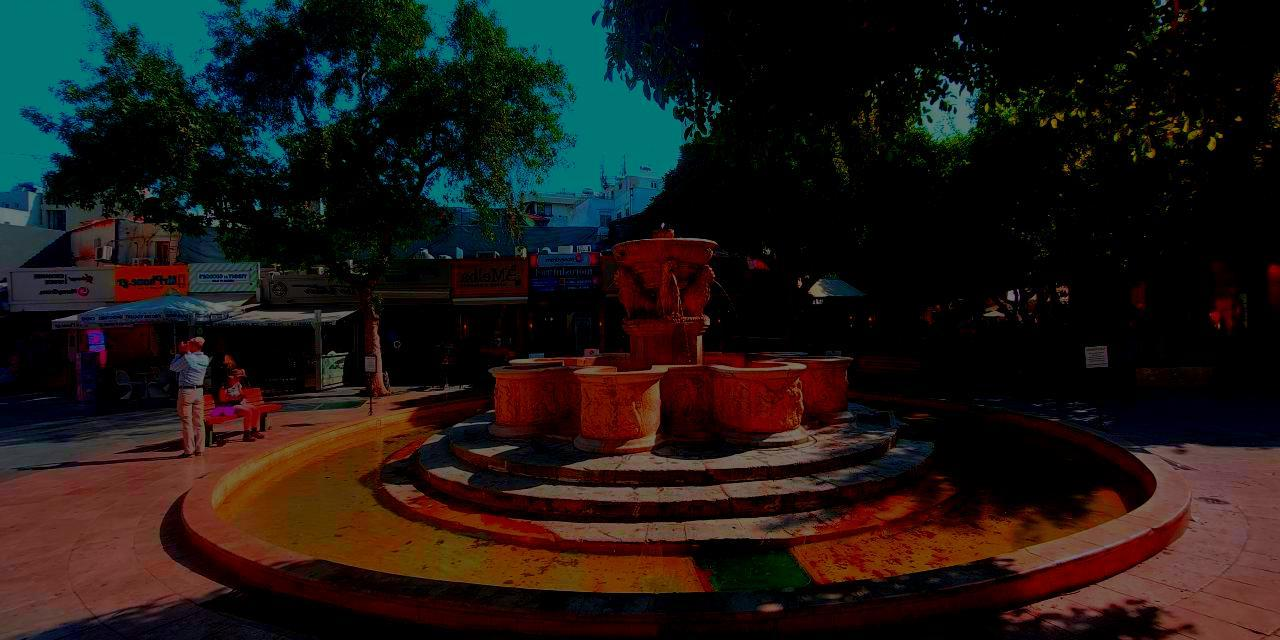Liontaria: (488, 233, 850, 454)
